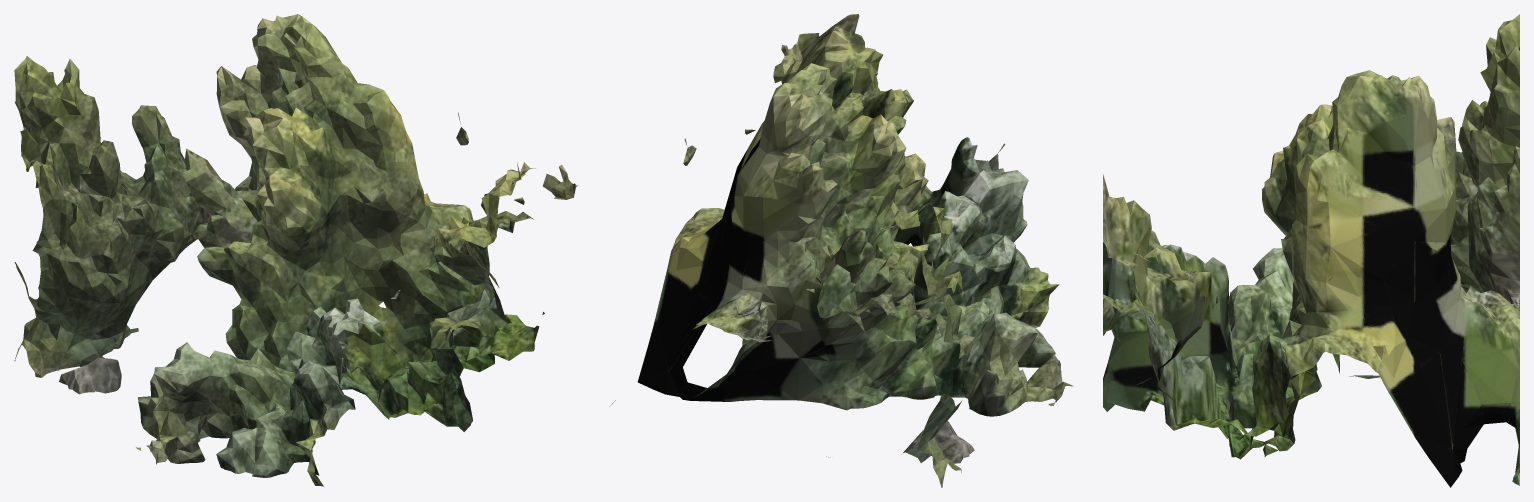
3 views of the same model, side by side, from view 1: azimuth 30°, elevation 25°; view 2: azimuth 150°, elevation 25°; view 3: azimuth 270°, elevation 25° (orthographic). The views are drawn at different scales.
Size of the model in its own units: 23.6 by 21.51 by 23.6.
7 materials, 7 textured.
